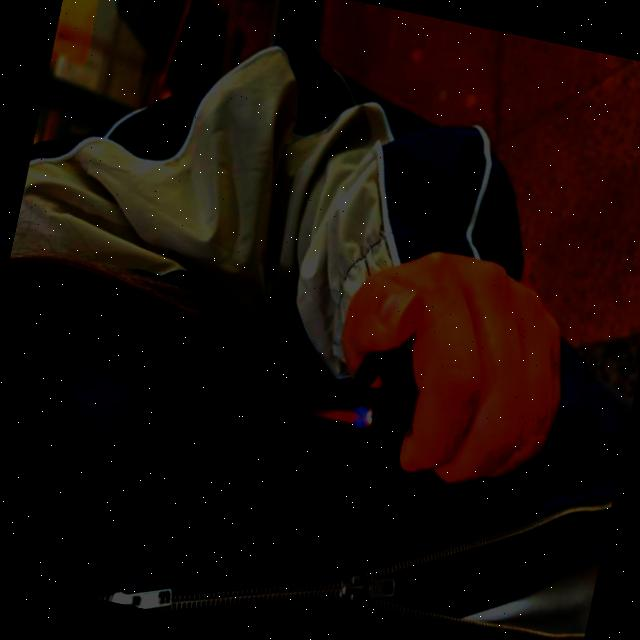Fire: (292, 392, 374, 428)
